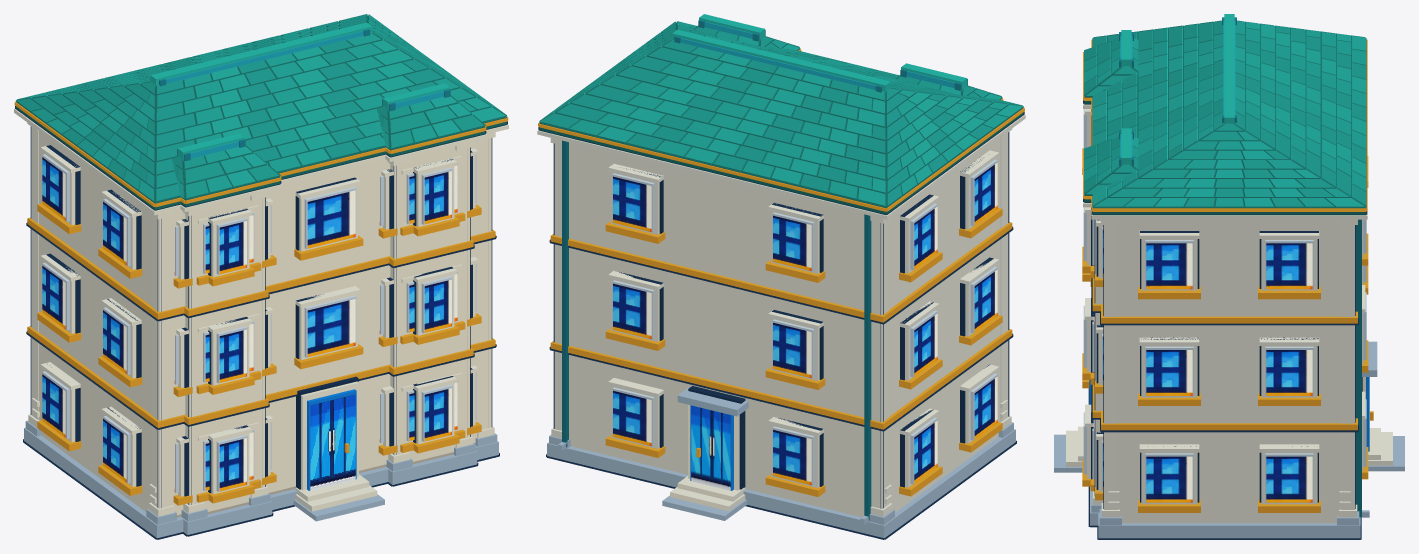
3 renders of one model, left to right at view 1: azimuth 30°, elevation 25°; view 2: azimuth 150°, elevation 25°; view 3: azimuth 270°, elevation 25°, orthographic.
Parts seen in each view (by area): view 1: A08 飘窗公寓; view 2: A08 飘窗公寓; view 3: A08 飘窗公寓.
Part boxes in pixels (left/top/right/bottom): A08 飘窗公寓: left=14, top=14, right=508, bottom=539; A08 飘窗公寓: left=537, top=14, right=1025, bottom=539; A08 飘窗公寓: left=1054, top=14, right=1404, bottom=539.
Size of the model in its own units: 7.84 by 8.39 by 6.81.
Materials: 2 (1 with a texture image).
